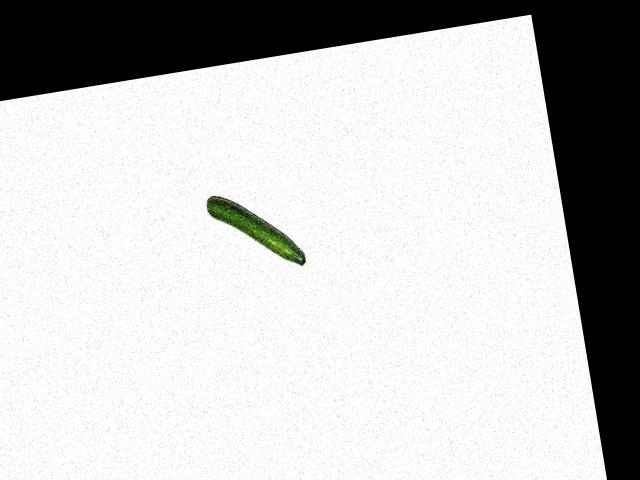cucumber: (204, 183, 306, 278)
